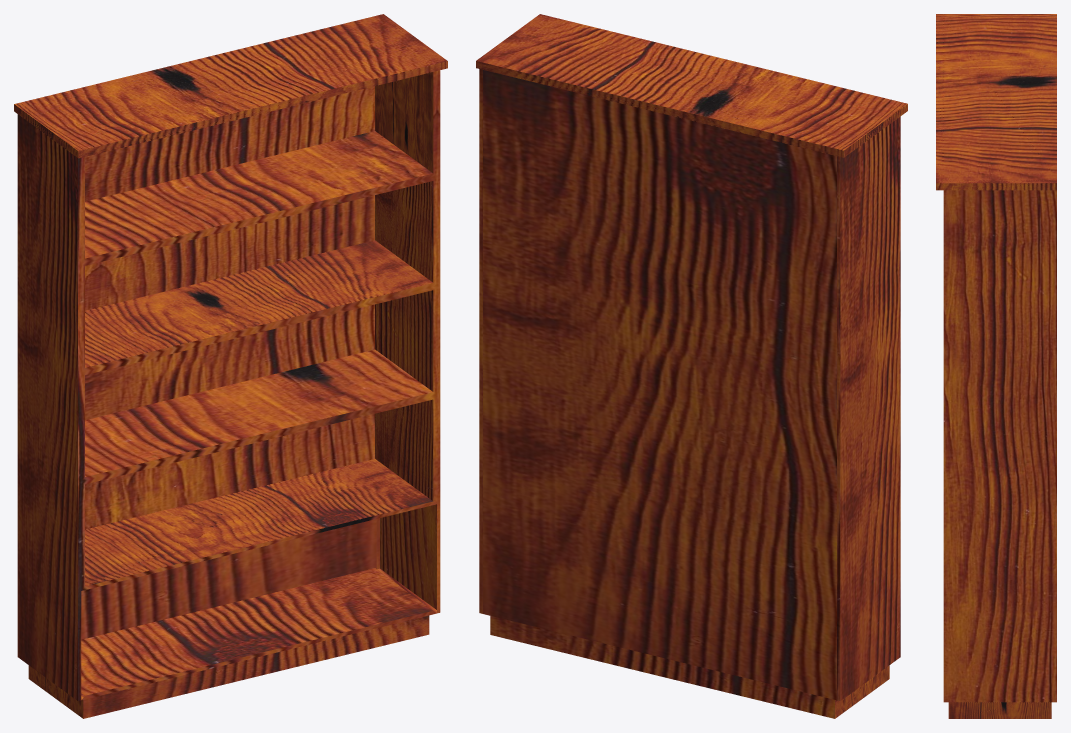
The model's file is modi3_desk.obj.
The picture shows the model from 3 angles, left to right: view 1: azimuth 30°, elevation 25°; view 2: azimuth 150°, elevation 25°; view 3: azimuth 270°, elevation 25°; orthographic projection. The views are drawn at different scales.
Parts seen in each view (by area): view 1: Default.001; view 2: Default.001; view 3: Default.001.
Boxes of the visible parts, x1,y1,x2,y2 form: Default.001: [14, 14, 447, 718]; Default.001: [476, 14, 907, 718]; Default.001: [936, 14, 1056, 718].
Bounding box in the file's own units: 1.72 × 2.56 × 0.5191.
1 material, 1 textured.
